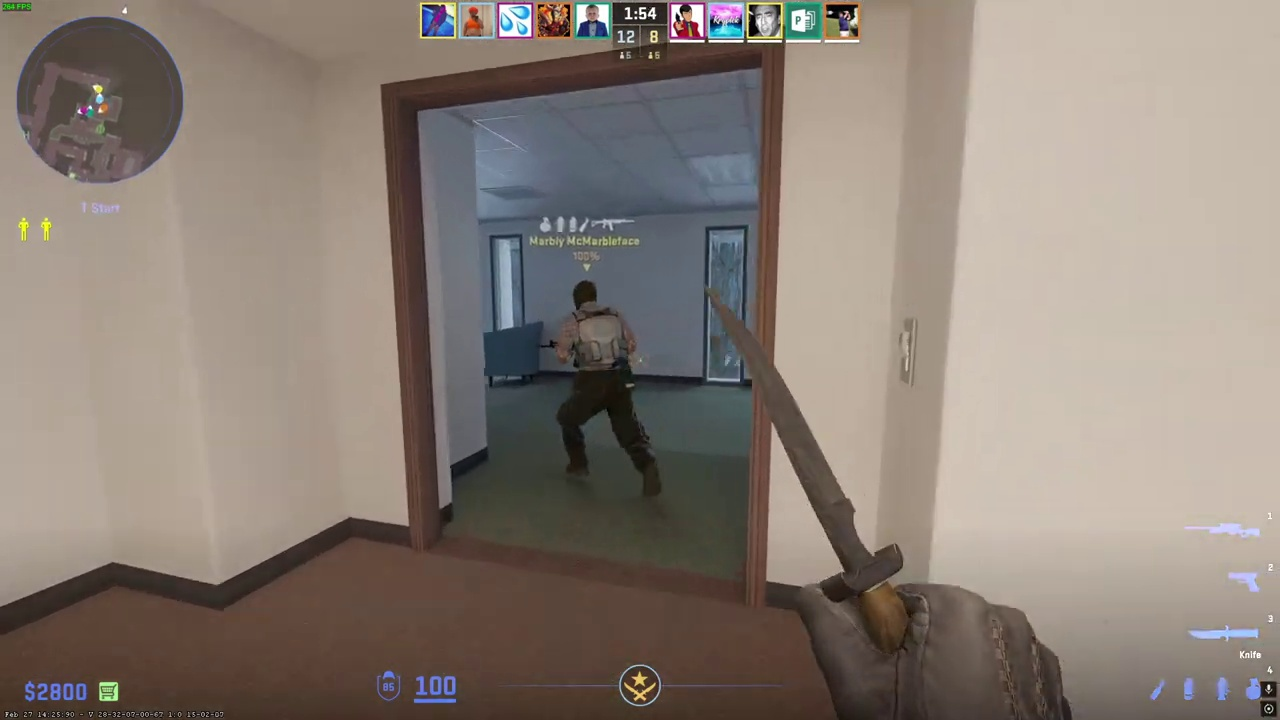Terrorist: (553, 279, 652, 504)
